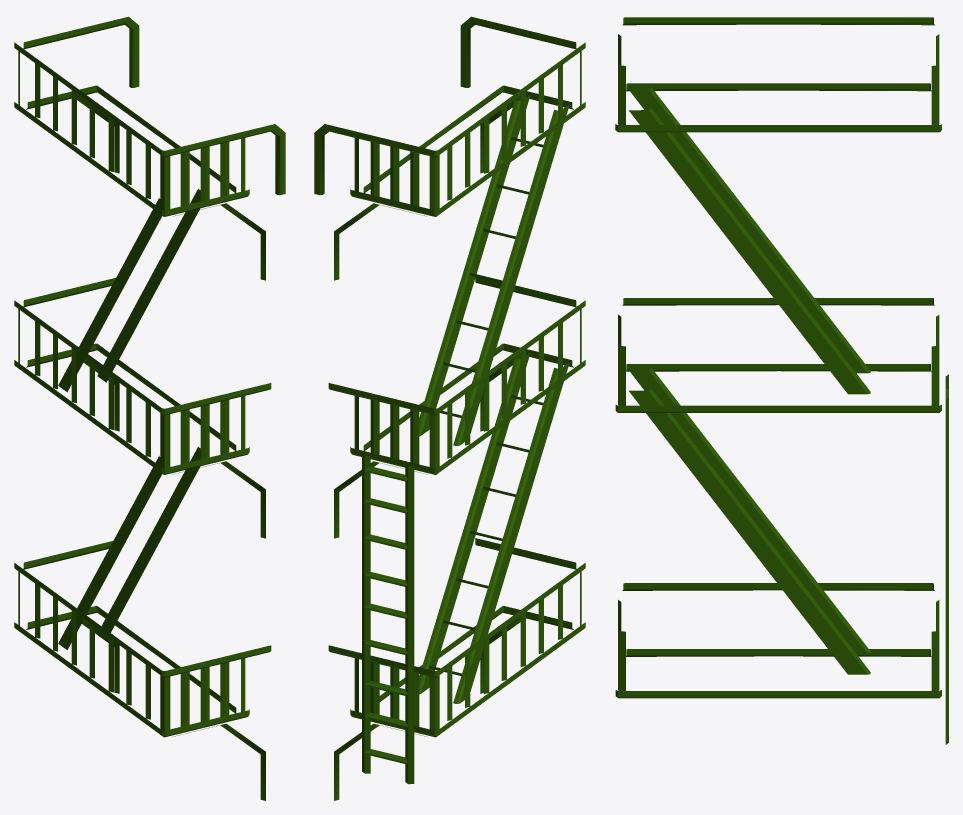
File: FireEscapeNight.glb
3 views of the same model, side by side, from view 1: azimuth 30°, elevation 25°; view 2: azimuth 150°, elevation 25°; view 3: azimuth 270°, elevation 25° (orthographic). The views are drawn at different scales.
Parts seen in each view (by area): view 1: FireEscapeNight; view 2: FireEscapeNight; view 3: FireEscapeNight.
Part boxes in pixels (box(x1,y1,x2,y2)): FireEscapeNight: box(14, 16, 285, 800); FireEscapeNight: box(314, 16, 585, 800); FireEscapeNight: box(615, 17, 948, 744).
Bounding box in the file's own units: 2.88 × 15.14 × 6.27.
5 materials, 5 textured.
